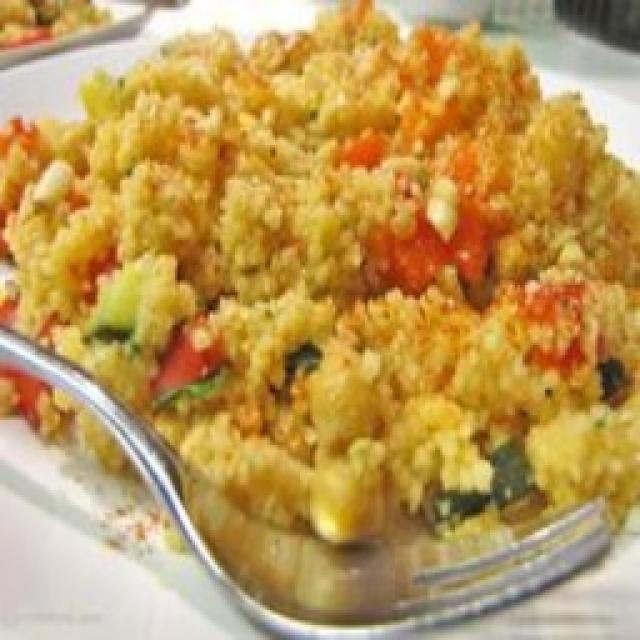Couscous: (0, 0, 640, 622)
